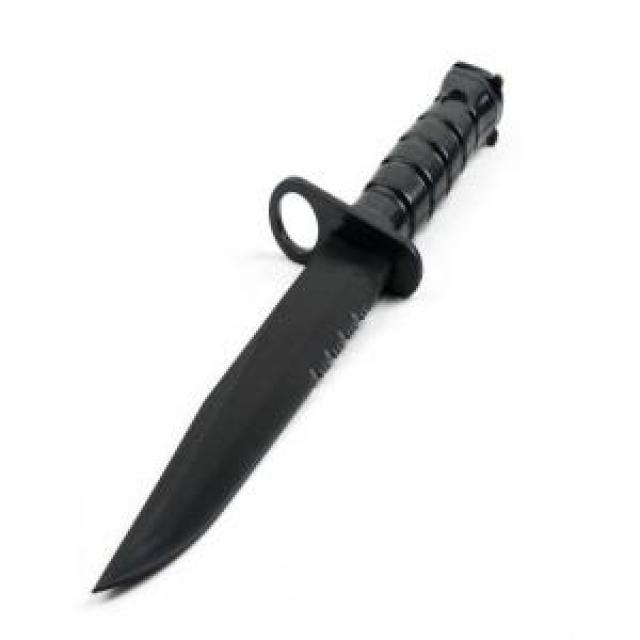knife: (88, 58, 522, 594)
